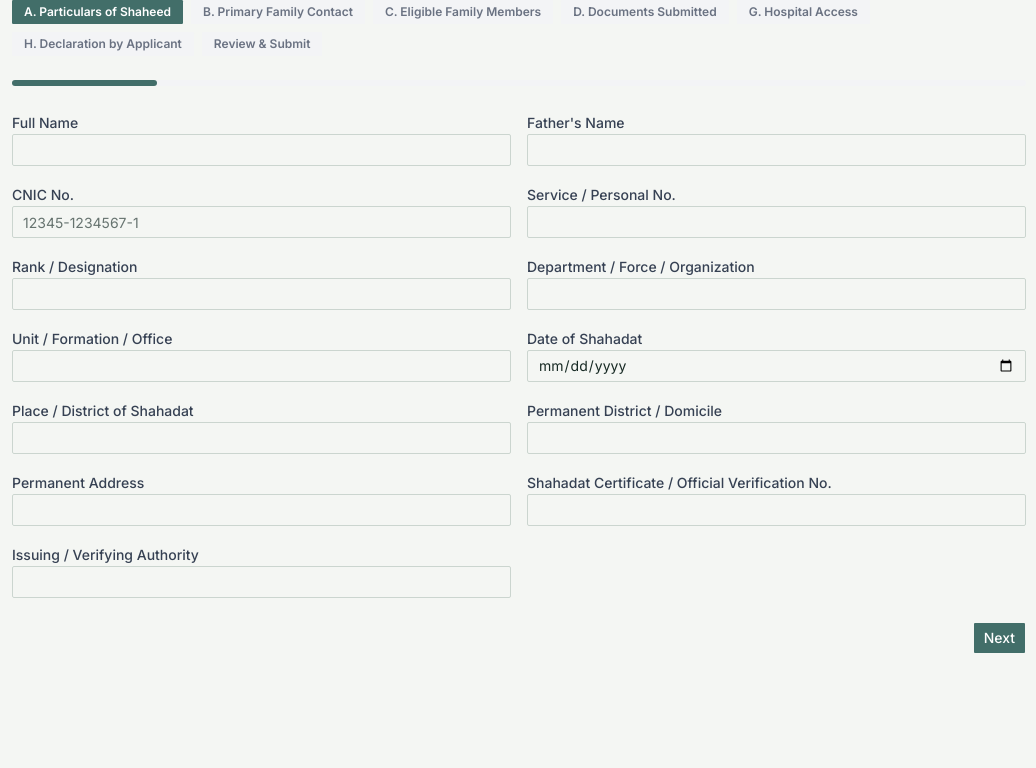
Test case: FamilyForm › shows validation errors when moving next with empty required fields
This screenshot has width=1036, height=768.
Click the button "Next" at [999, 638], box [973,622,1026,654]
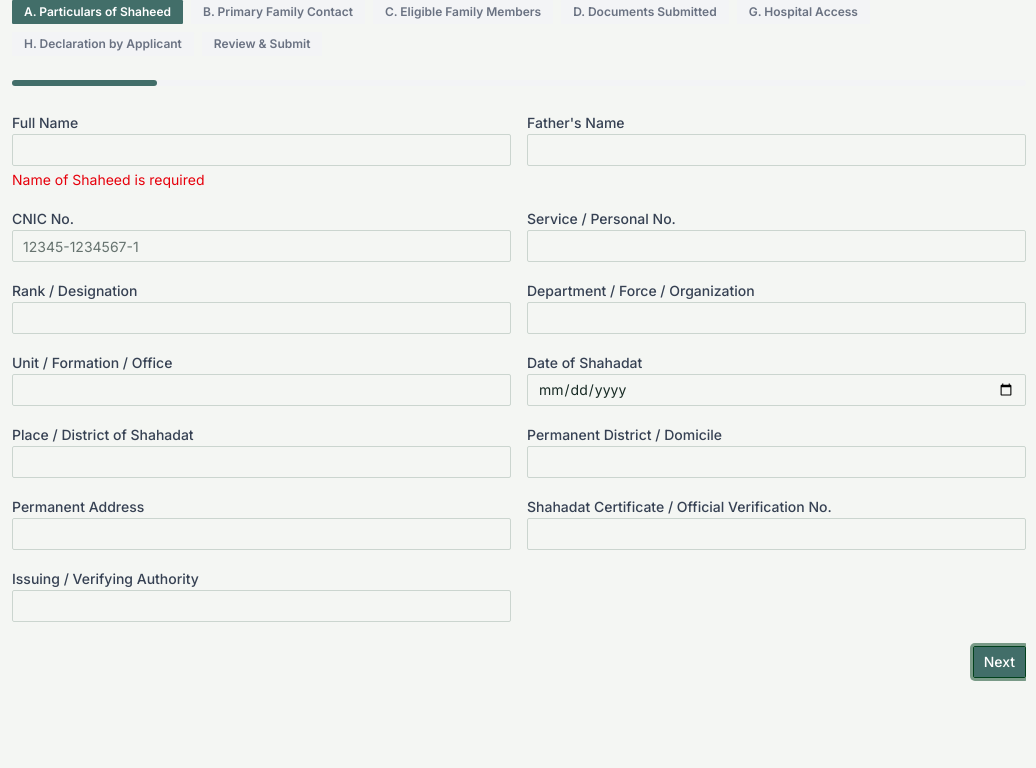
Expected: the text "Name of Shaheed is required" is shown, [12,171,204,188]
